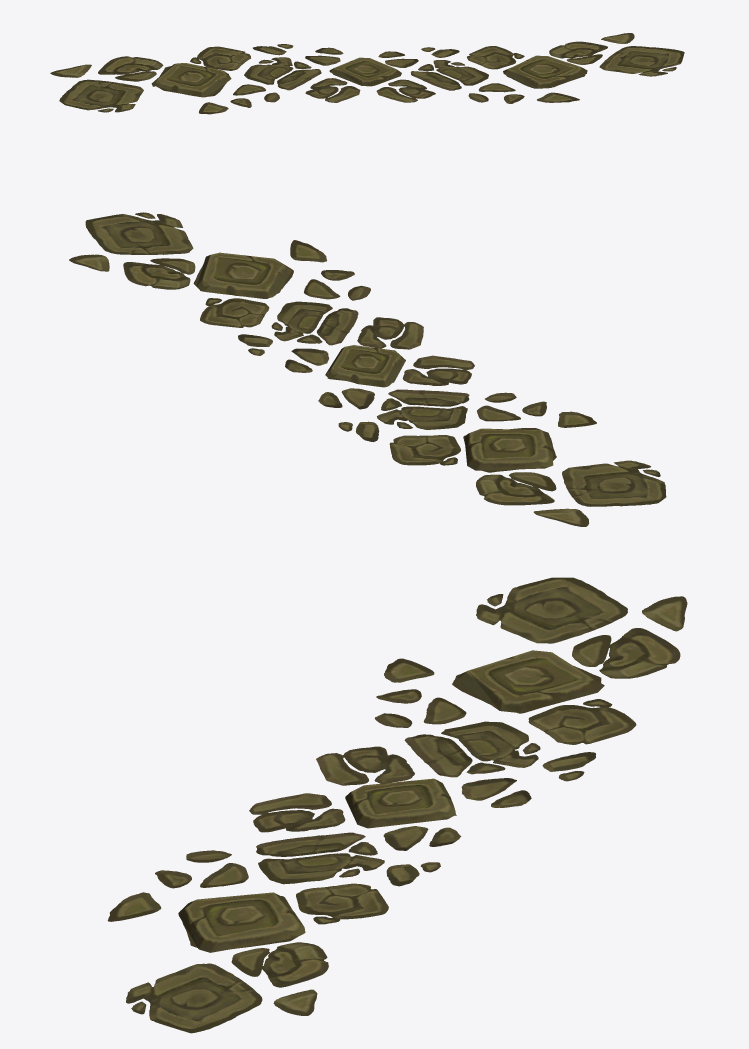
The model's file is pavers_s_01.fbx.
3 renders of one model, top to bottom at view 1: azimuth 30°, elevation 25°; view 2: azimuth 150°, elevation 25°; view 3: azimuth 270°, elevation 25°, orthographic. The views are drawn at different scales.
Visible parts, largest first — view 1: obj0.114; view 2: obj0.114; view 3: obj0.114.
Boxes of the visible parts, left/top/right/bottom form: obj0.114: left=50, top=33, right=684, bottom=114; obj0.114: left=69, top=212, right=666, bottom=526; obj0.114: left=107, top=577, right=687, bottom=1033.
Bounding box in the file's own units: 15.01 × 0.1007 × 10.
